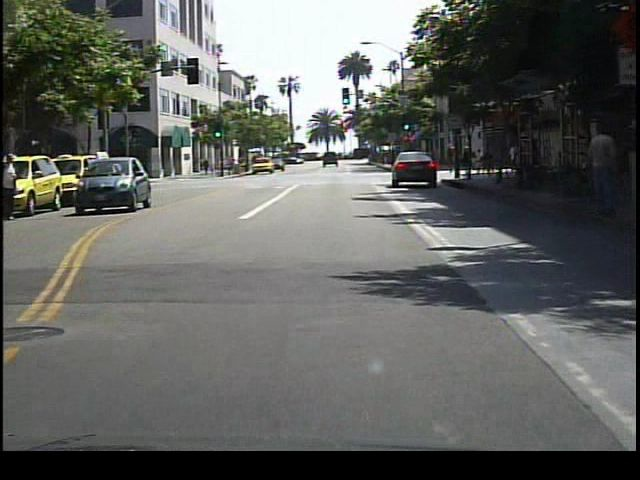person: (583, 122, 620, 227), (6, 149, 28, 226)
